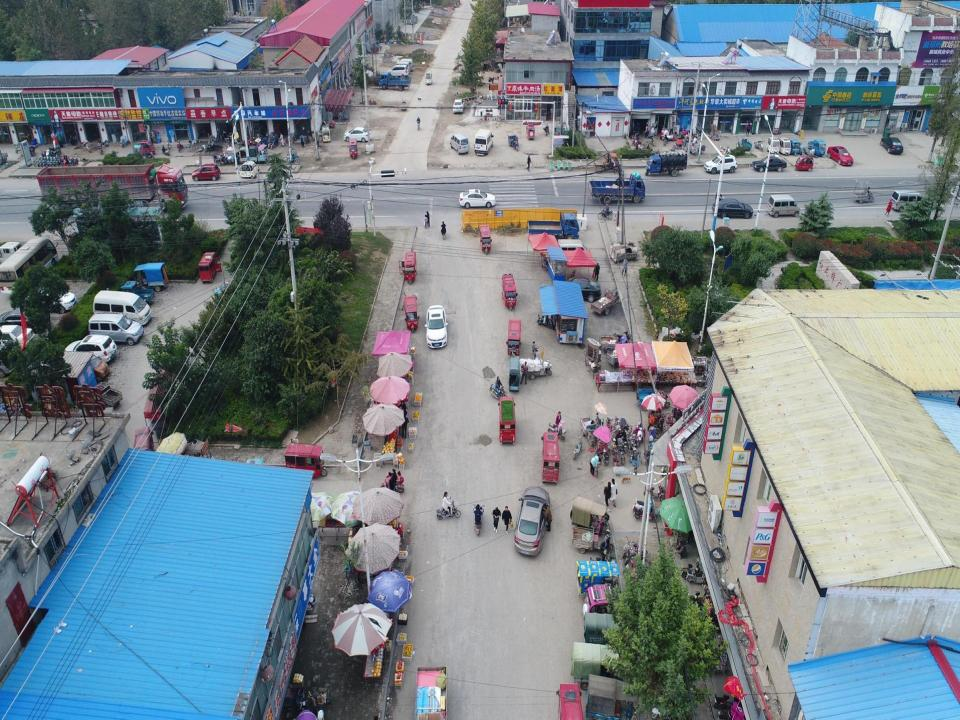bus: (0, 234, 60, 296)
car: (513, 485, 551, 556), (0, 301, 51, 335), (28, 283, 78, 313), (62, 336, 116, 363), (72, 350, 108, 382), (560, 275, 601, 303), (425, 302, 448, 350), (0, 322, 36, 350), (710, 197, 755, 218), (458, 189, 496, 208), (703, 154, 738, 174), (826, 144, 856, 167), (752, 153, 787, 172), (192, 163, 220, 181), (343, 126, 371, 143), (880, 136, 903, 155), (452, 99, 464, 113)
truck: (36, 164, 188, 213), (588, 175, 646, 206), (526, 211, 582, 243), (119, 280, 155, 303), (378, 70, 412, 92)
van: (92, 289, 152, 329), (88, 311, 144, 345), (891, 189, 926, 214), (766, 194, 800, 217), (557, 238, 588, 263), (473, 128, 494, 155), (449, 132, 470, 155), (387, 63, 408, 79), (392, 61, 410, 75), (398, 58, 415, 72)
